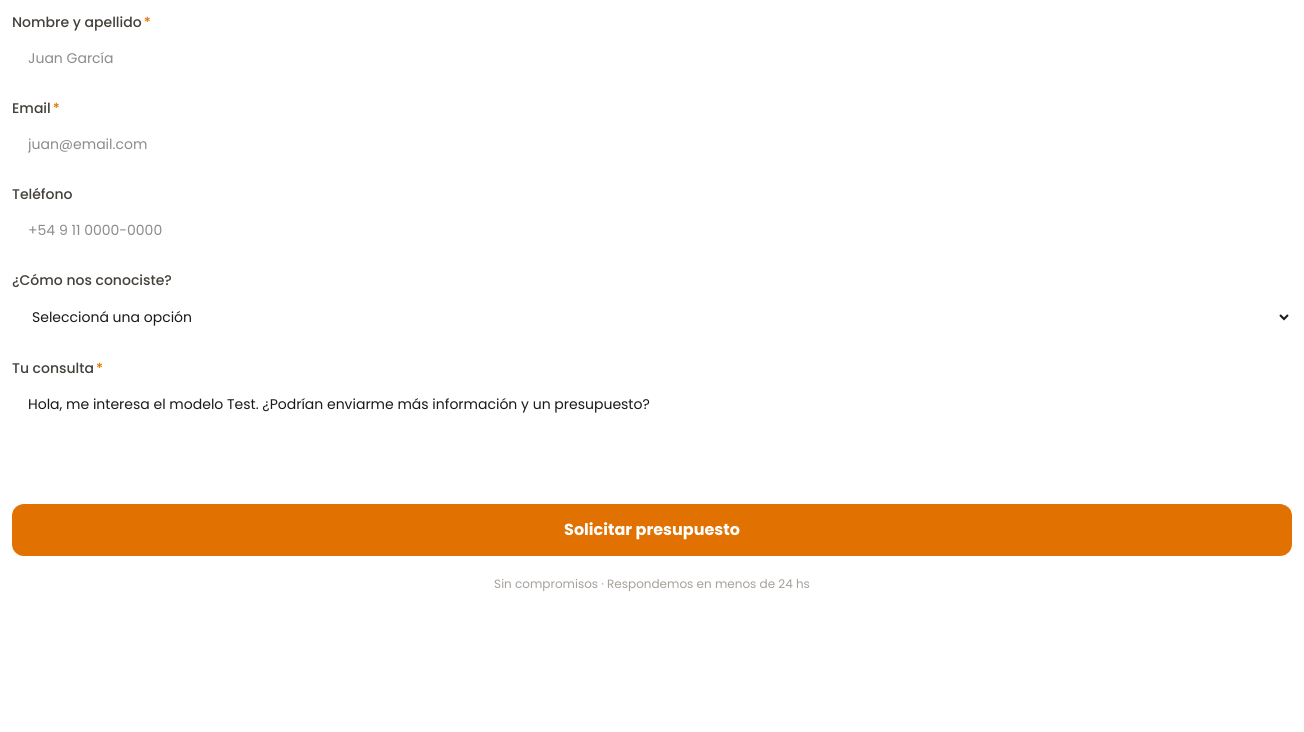
Test: ContactForm › muestra error si email es inválido
Type "Test User" into the field with placeholder "Juan García".
click(652, 58); type("Test User")  # box [12, 38, 1292, 78]
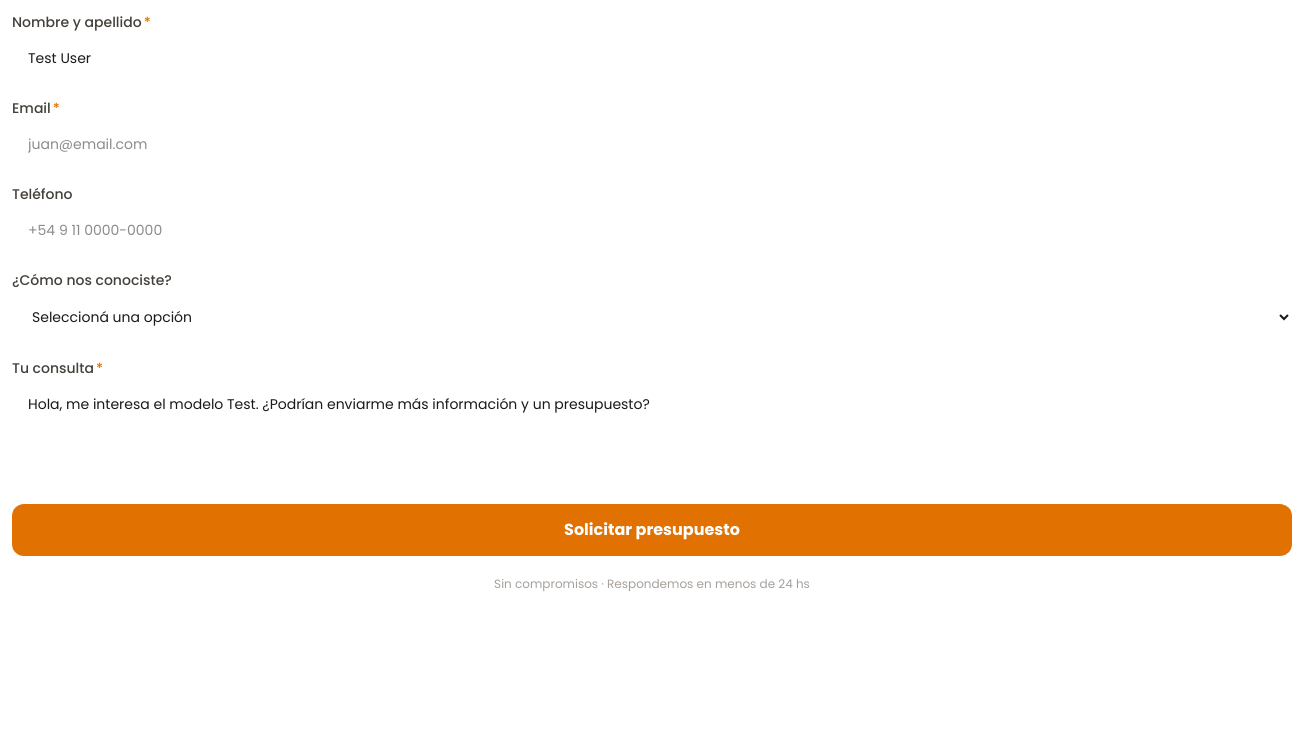
Type "no-es-email" into the field with placeholder "juan@email.com".
click(652, 144); type("no-es-email")  # box [12, 124, 1292, 164]
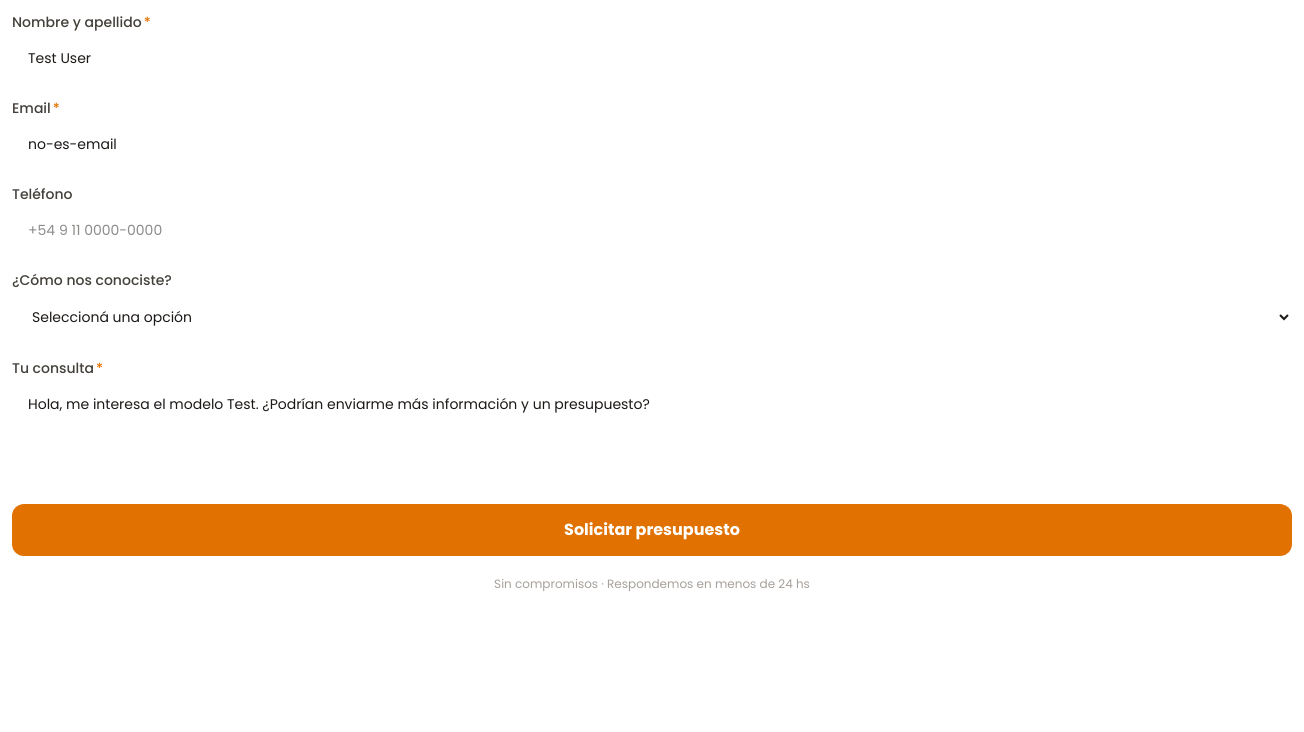
Click the button "Solicitar presupuesto".
click(652, 530)  # box [12, 504, 1292, 556]
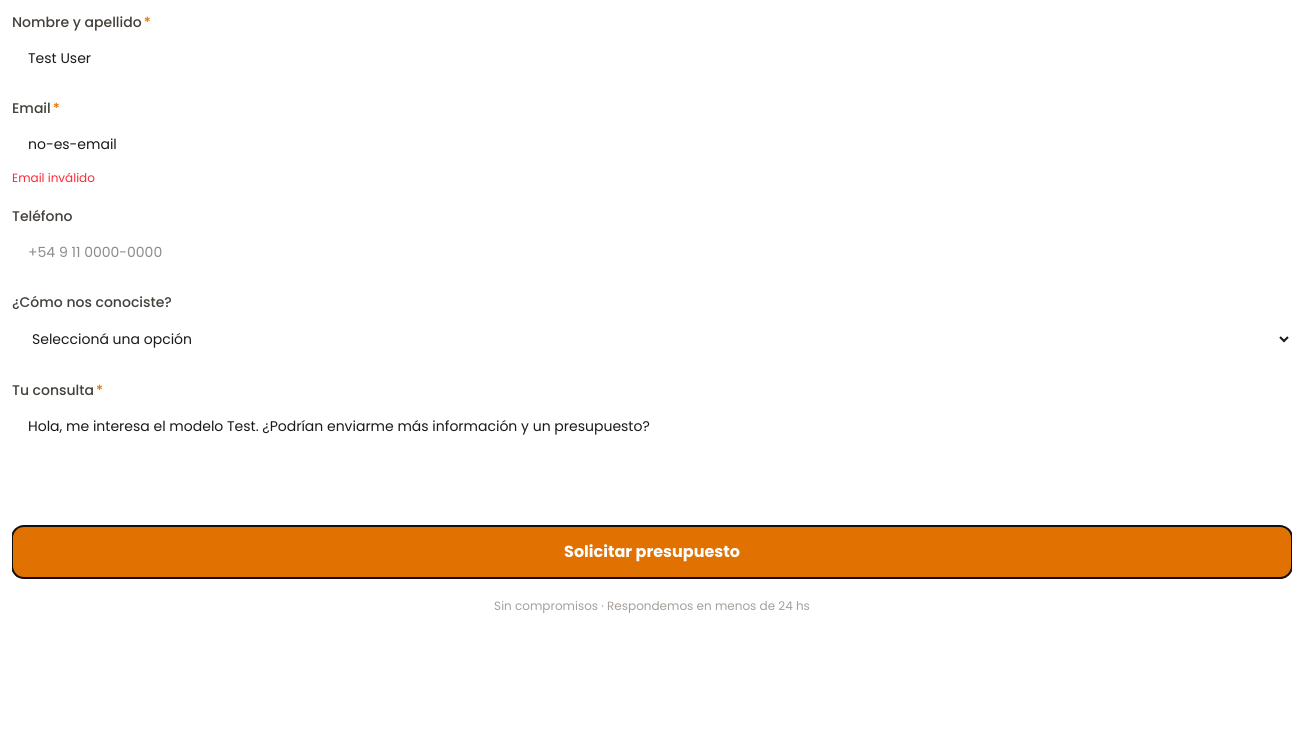
Now the text "Email inválido" is shown, box [12, 169, 95, 186]
